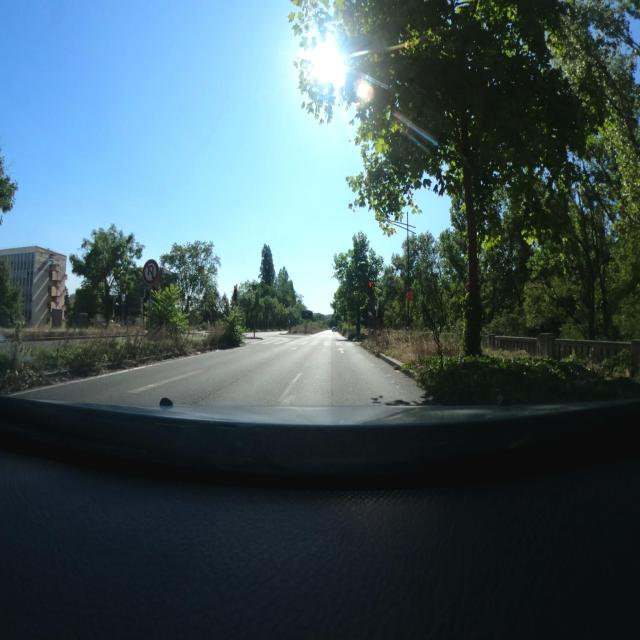car: (332, 327, 337, 333)
